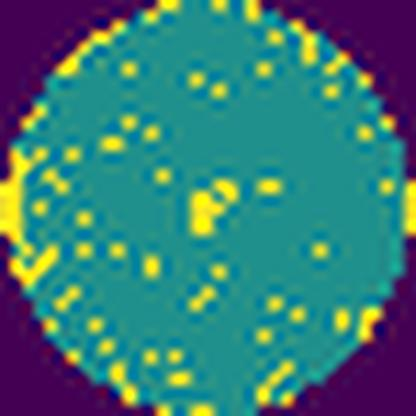Edge-Loc: (0, 140, 56, 282)
